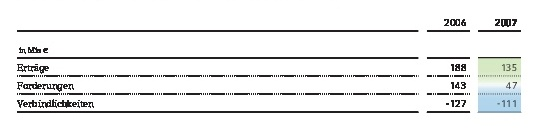table: (0, 0, 533, 134)
